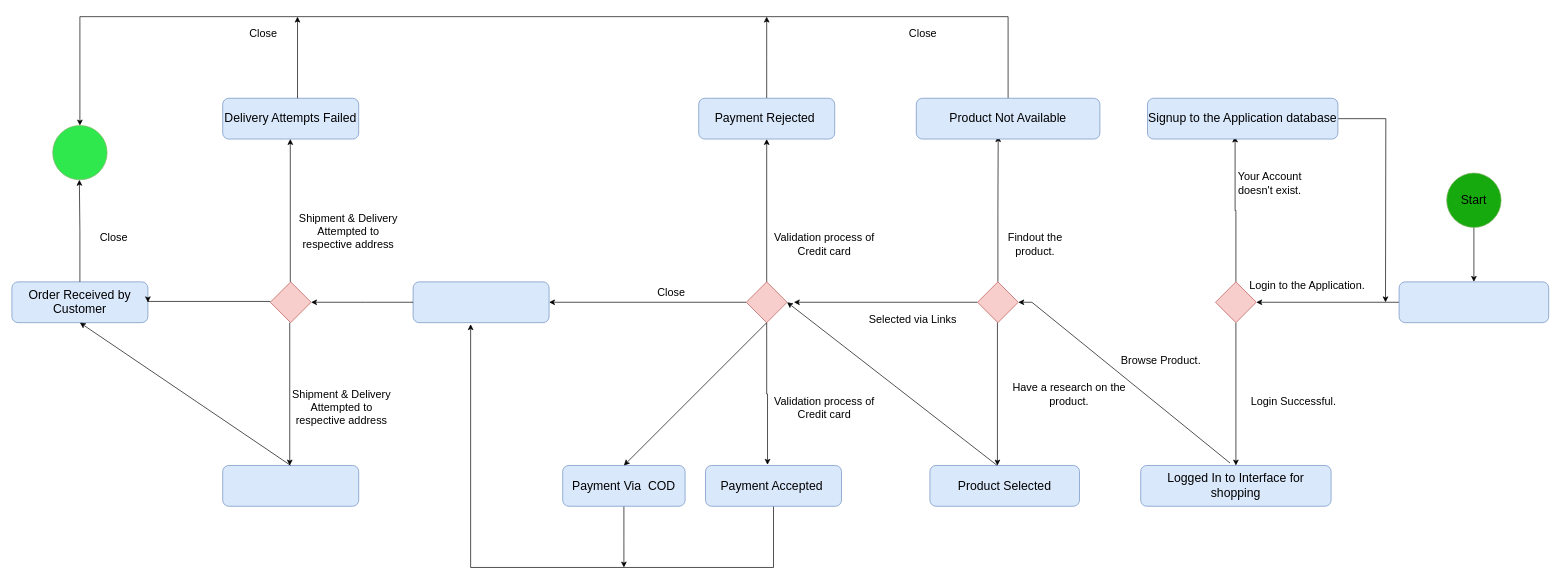
Some shapes in this 1561 by 585 pixel diagram are drawn without their labels. The shapes that lost their labels are listed below. From the top down, each one's box as (x1, y1, x2, y2) in pixels, then its label:
(52, 125, 107, 180): END
(412, 281, 549, 323): Order Accepted
(1398, 281, 1549, 323): Install the Application
(222, 465, 359, 506): Order Shipped and Delivered
